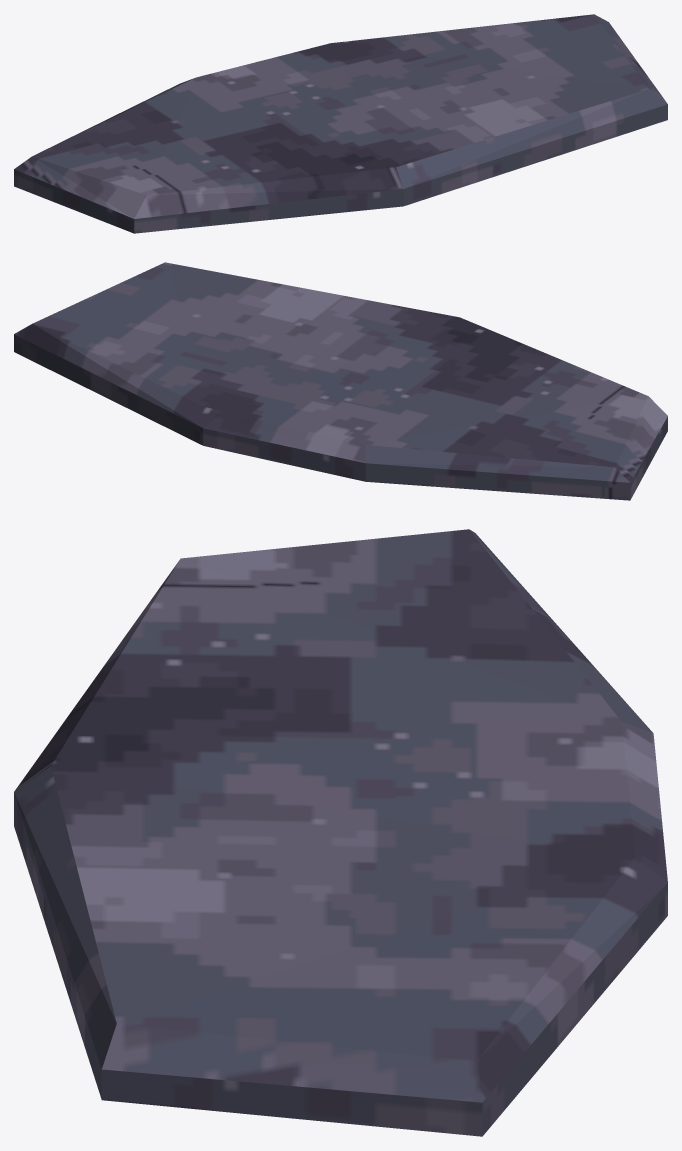
The model's file is SM_CV_FloorSlabC.fbx.
The picture shows the model from 3 angles, top to bottom: view 1: azimuth 30°, elevation 25°; view 2: azimuth 150°, elevation 25°; view 3: azimuth 270°, elevation 25°; orthographic projection. The views are drawn at different scales.
Visible parts, largest first — view 1: CV_FloorSlabC_Slab; view 2: CV_FloorSlabC_Slab; view 3: CV_FloorSlabC_Slab.
Part boxes in pixels (<box>): CV_FloorSlabC_Slab: <box>14,14,667,233</box>; CV_FloorSlabC_Slab: <box>14,262,667,500</box>; CV_FloorSlabC_Slab: <box>14,529,667,1136</box>.
Bounding box in the file's own units: 1.27 × 0.0653 × 0.6138.
